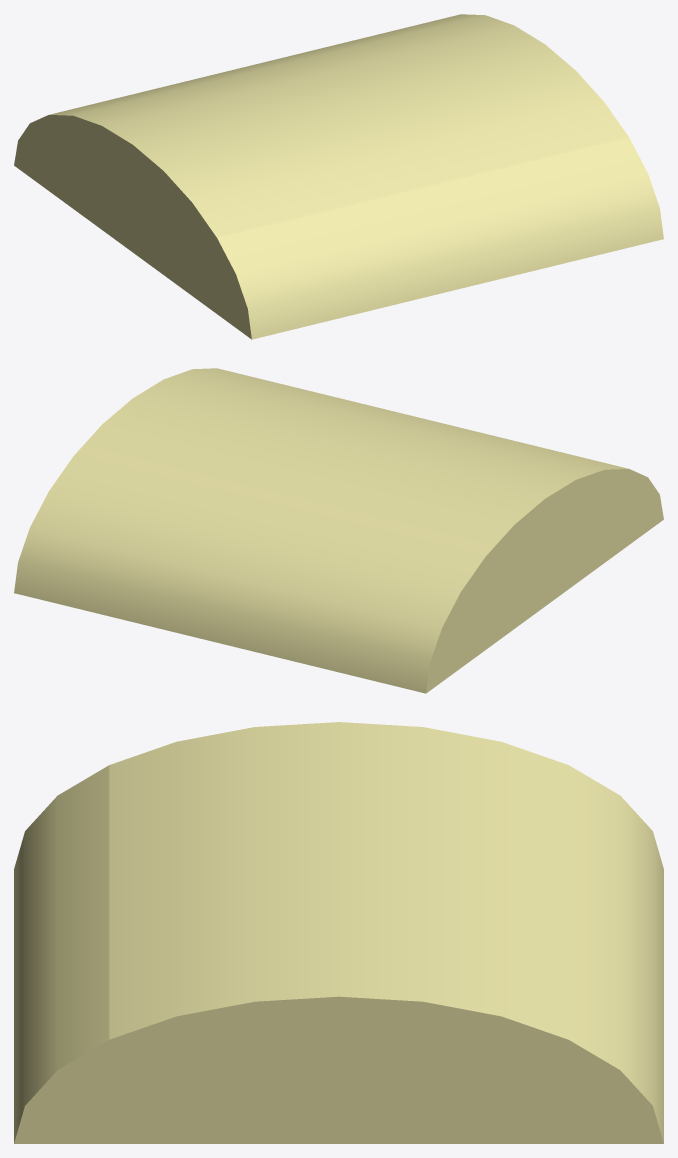
Rendered from original-5.obj.
3 renders of one model, top to bottom at view 1: azimuth 30°, elevation 25°; view 2: azimuth 150°, elevation 25°; view 3: azimuth 270°, elevation 25°, orthographic. The views are drawn at different scales.
Parts seen in each view (by area): view 1: Group4/mesh7/mesh7-geometry#mesh7-geometry; view 2: Group4/mesh7/mesh7-geometry#mesh7-geometry; view 3: Group4/mesh7/mesh7-geometry#mesh7-geometry.
Part boxes in pixels (bbox=[...]): Group4/mesh7/mesh7-geometry#mesh7-geometry: bbox=[14, 14, 663, 339]; Group4/mesh7/mesh7-geometry#mesh7-geometry: bbox=[14, 368, 663, 693]; Group4/mesh7/mesh7-geometry#mesh7-geometry: bbox=[14, 722, 663, 1143].
Bounding box in the file's own units: 0.0575 × 0.0144 × 0.0575.
